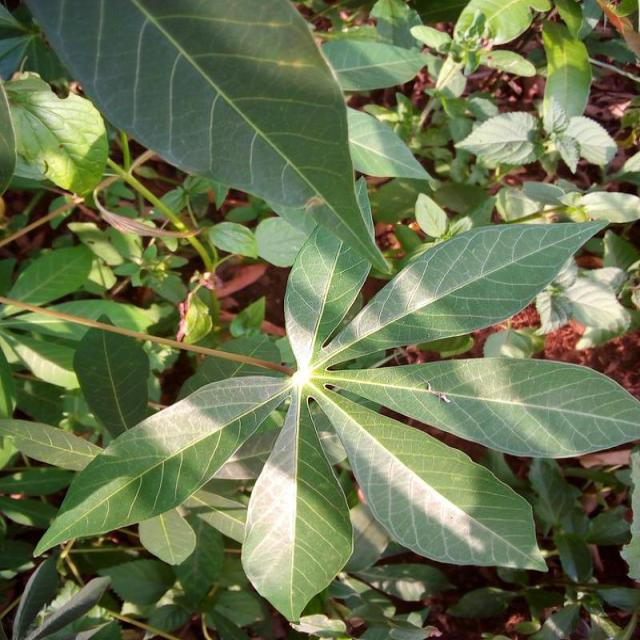cassava leaf: (32, 214, 638, 623), (23, 0, 390, 276), (239, 383, 354, 623)
